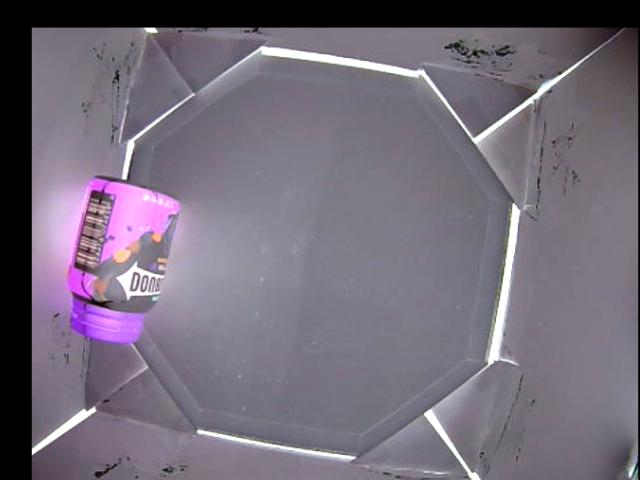Bottle: (64, 174, 182, 350)
